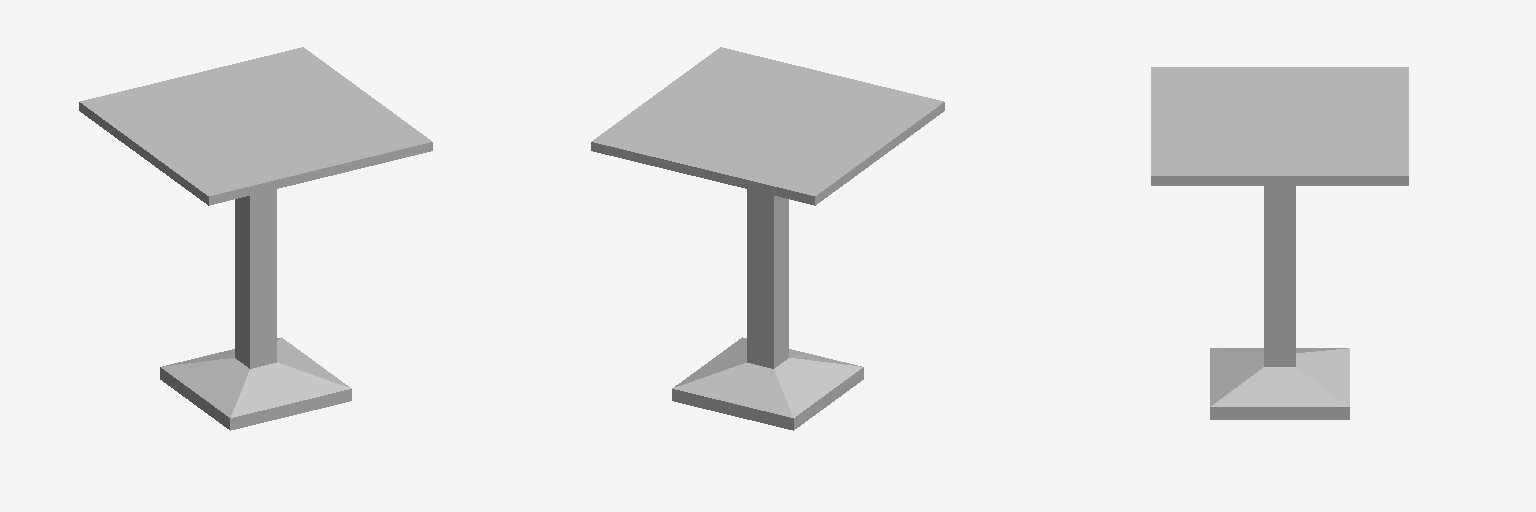
The model's file is table.obj.
3 views of the same model, side by side, from view 1: azimuth 30°, elevation 25°; view 2: azimuth 150°, elevation 25°; view 3: azimuth 270°, elevation 25° (orthographic).
Visible parts, largest first — view 1: Cube; view 2: Cube; view 3: Cube.
Part boxes in pixels (x1,y1,x2,y2): Cube: (79, 47, 432, 430); Cube: (591, 47, 944, 430); Cube: (1151, 67, 1408, 419).
Bounding box in the file's own units: 17.23 × 19.71 × 17.23.